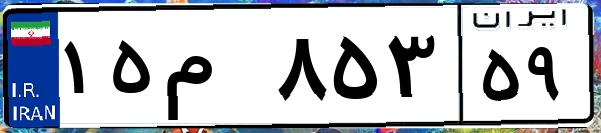1: (57, 26, 110, 100)
3: (385, 28, 445, 110)
5: (330, 28, 385, 110), (475, 38, 525, 113), (110, 28, 158, 98)
8: (270, 28, 330, 110)
9: (525, 38, 570, 115)
م: (158, 20, 270, 120)
